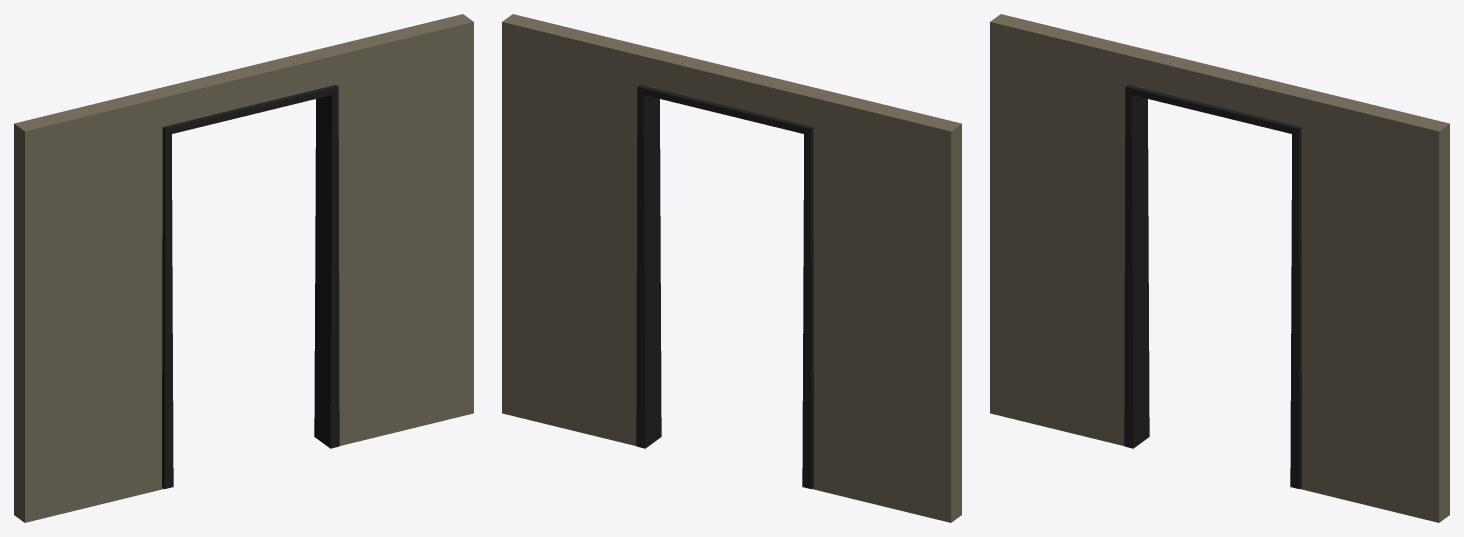
Rendered from SM_door_wall.fbx.
3 views of the same model, side by side, from view 1: azimuth 30°, elevation 25°; view 2: azimuth 150°, elevation 25°; view 3: azimuth 330°, elevation 25° (orthographic).
Parts seen in each view (by area): view 1: door_wall; view 2: door_wall; view 3: door_wall.
Part boxes in pixels (x1,y1,x2,y2): door_wall: (14, 14, 473, 522); door_wall: (502, 14, 961, 522); door_wall: (990, 14, 1449, 522).
Size of the model in its own units: 300 by 250 by 18.75.
